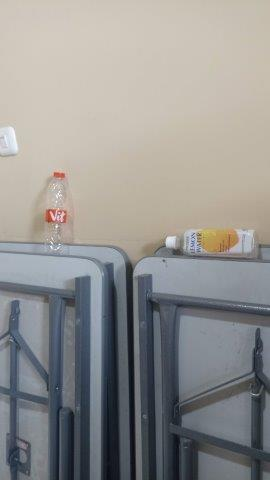botolplastik: (163, 229, 258, 261), (41, 171, 70, 258)
